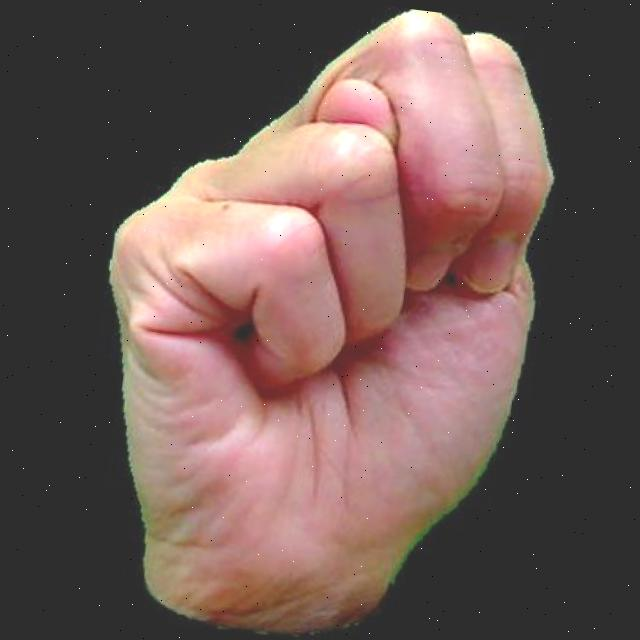n: (60, 0, 573, 640)
